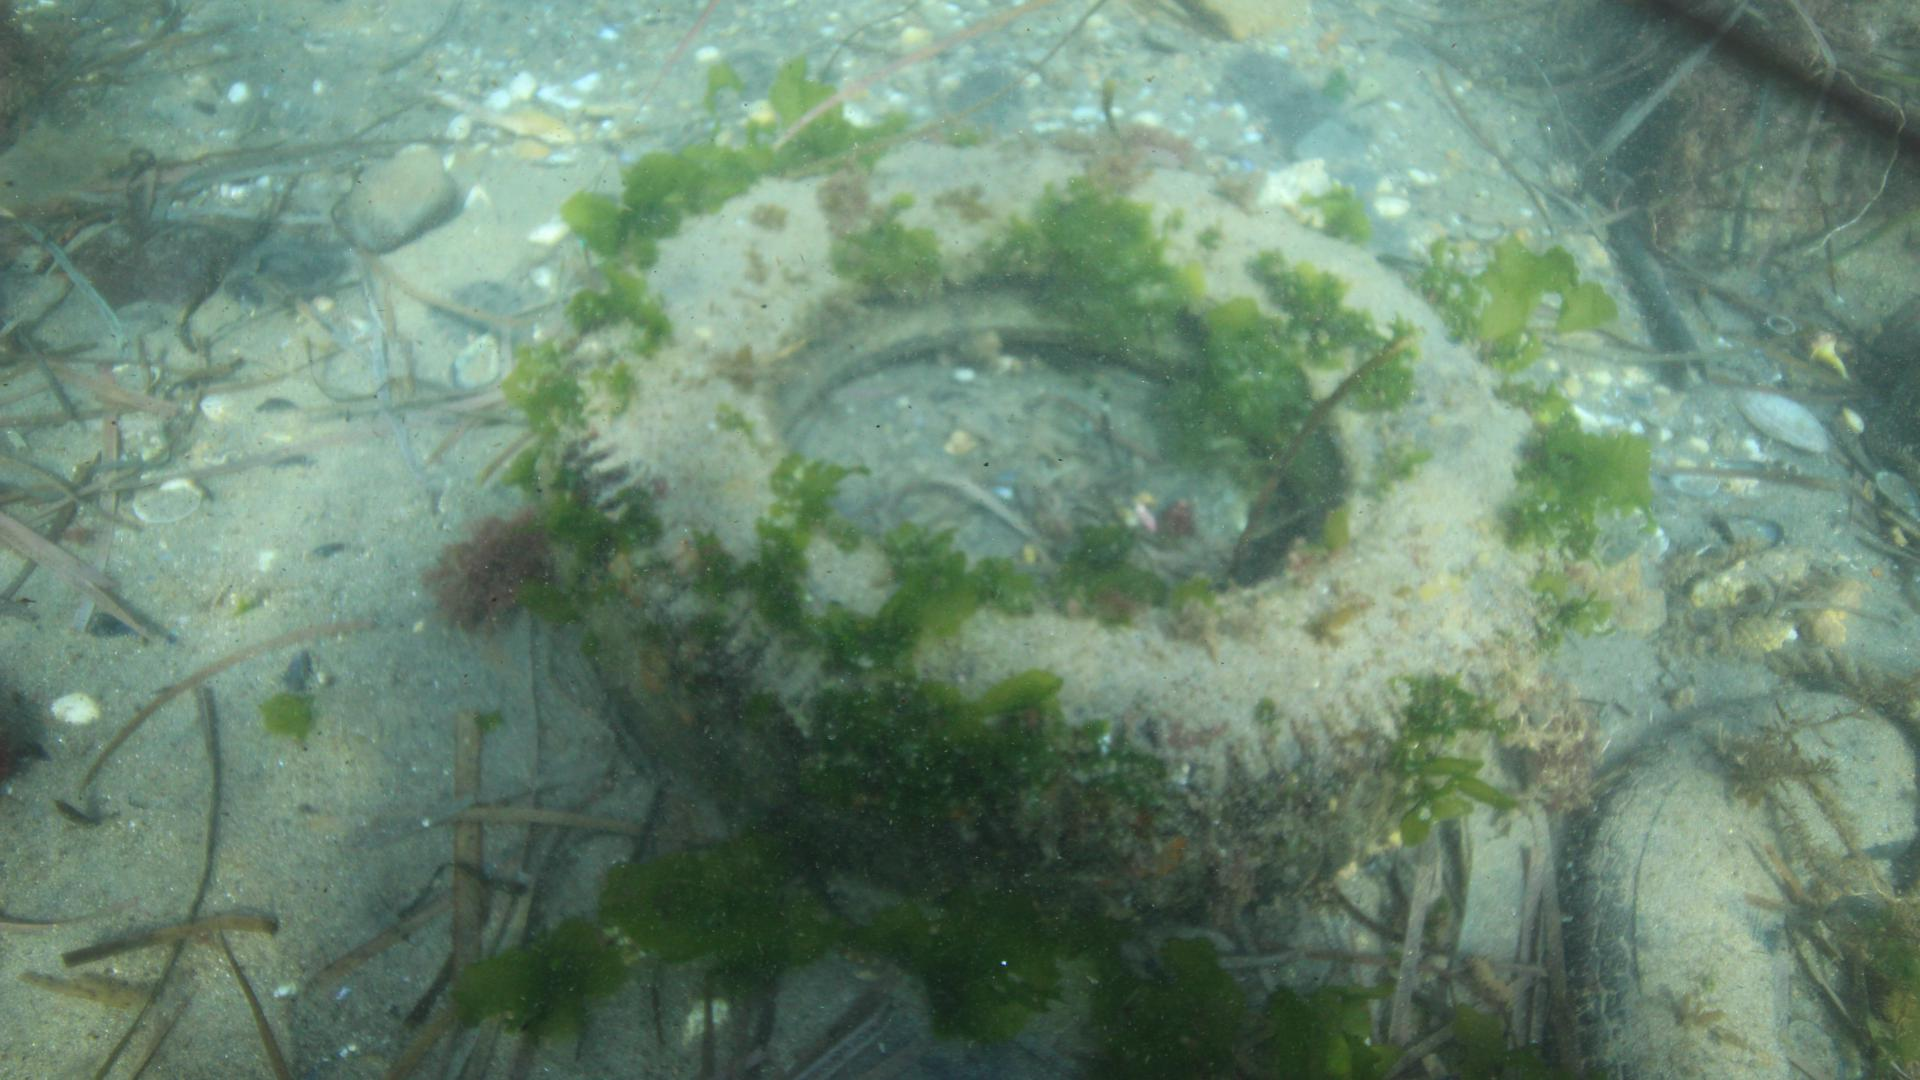tire: (531, 131, 1573, 934)
